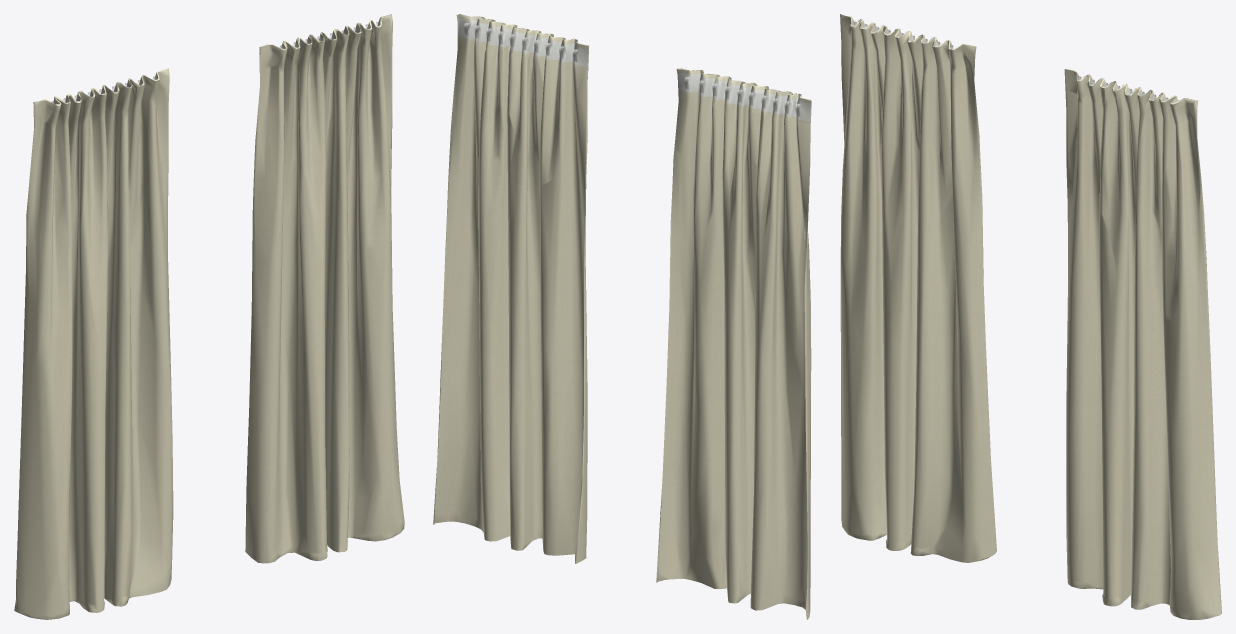
The picture shows the model from 3 angles, left to right: view 1: azimuth 30°, elevation 25°; view 2: azimuth 150°, elevation 25°; view 3: azimuth 330°, elevation 25°; orthographic projection.
Parts seen in each view (by area): view 1: ASY_LPT01_80597171_S02_NV01, ASY_LPT02_80597171_S02_NV01; view 2: ASY_LPT01_80597171_S02_NV01, ASY_LPT02_80597171_S02_NV01; view 3: ASY_LPT01_80597171_S02_NV01, ASY_LPT02_80597171_S02_NV01.
Part boxes in pixels (x1=…): ASY_LPT01_80597171_S02_NV01: x1=14, y1=68, x2=173, y2=619; ASY_LPT02_80597171_S02_NV01: x1=245, y1=14, x2=404, y2=563; ASY_LPT01_80597171_S02_NV01: x1=656, y1=68, x2=811, y2=619; ASY_LPT02_80597171_S02_NV01: x1=433, y1=14, x2=589, y2=563; ASY_LPT01_80597171_S02_NV01: x1=840, y1=14, x2=996, y2=562; ASY_LPT02_80597171_S02_NV01: x1=1064, y1=69, x2=1221, y2=619.
Size of the model in its own units: 1.96 by 2.53 by 0.2091.
4 materials, 4 textured.
